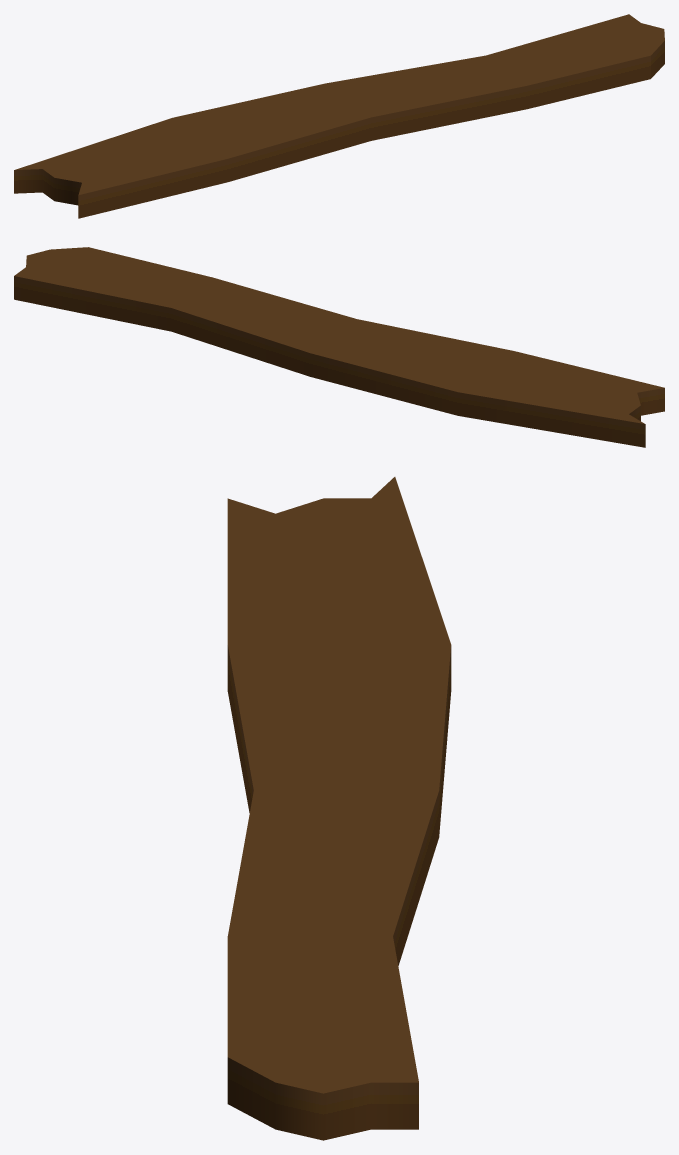
Rendered from SM_FaultyPlank_001.fbx.
3 views of the same model, one above another, from view 1: azimuth 30°, elevation 25°; view 2: azimuth 150°, elevation 25°; view 3: azimuth 270°, elevation 25° (orthographic). The views are drawn at different scales.
Visible parts, largest first — view 1: SM_FaultyPlank_001; view 2: SM_FaultyPlank_001; view 3: SM_FaultyPlank_001.
Boxes of the visible parts, x1=… form: SM_FaultyPlank_001: x1=14, y1=14, x2=664, y2=218; SM_FaultyPlank_001: x1=14, y1=247, x2=664, y2=447; SM_FaultyPlank_001: x1=227, y1=477, x2=451, y2=1140.
Size of the model in its own units: 47.56 by 1.69 by 7.28.
